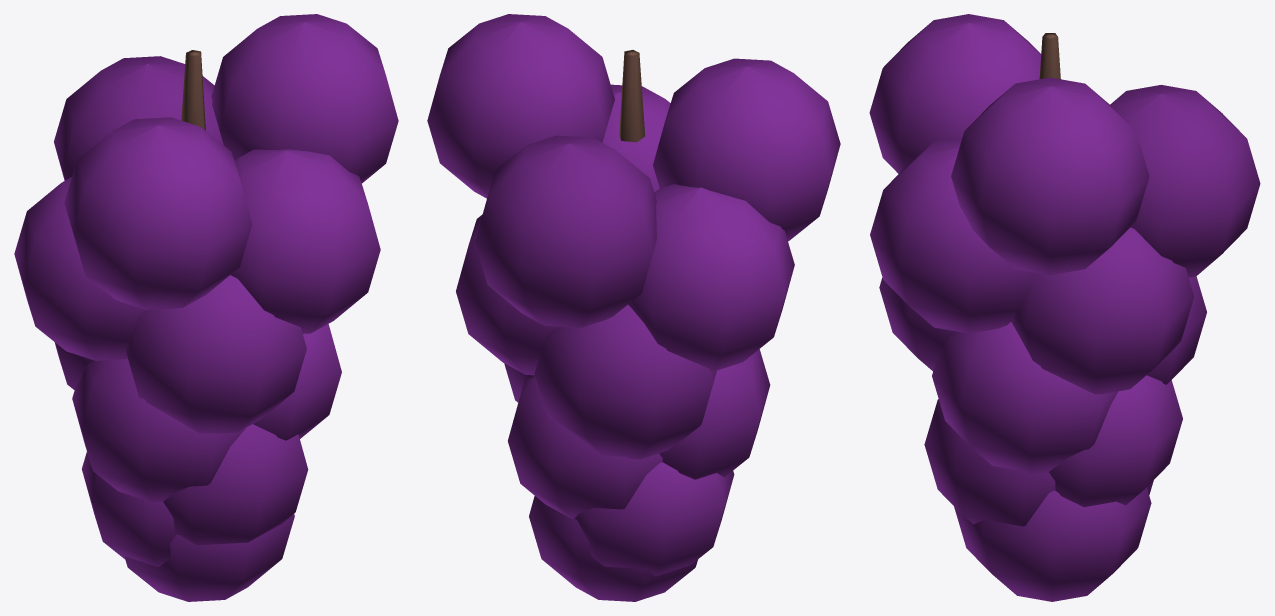
Rendered from fruit-grape-gold.glb.
The picture shows the model from 3 angles, left to right: view 1: azimuth 30°, elevation 25°; view 2: azimuth 150°, elevation 25°; view 3: azimuth 270°, elevation 25°; orthographic projection. The views are drawn at different scales.
Parts seen in each view (by area): view 1: fruit-grape; view 2: fruit-grape; view 3: fruit-grape.
Part boxes in pixels (x1,y1,x2,y2): fruit-grape: (14, 14, 398, 601); fruit-grape: (427, 14, 840, 601); fruit-grape: (869, 14, 1260, 601).
Size of the model in its own units: 0.2843 by 0.4167 by 0.2647.
